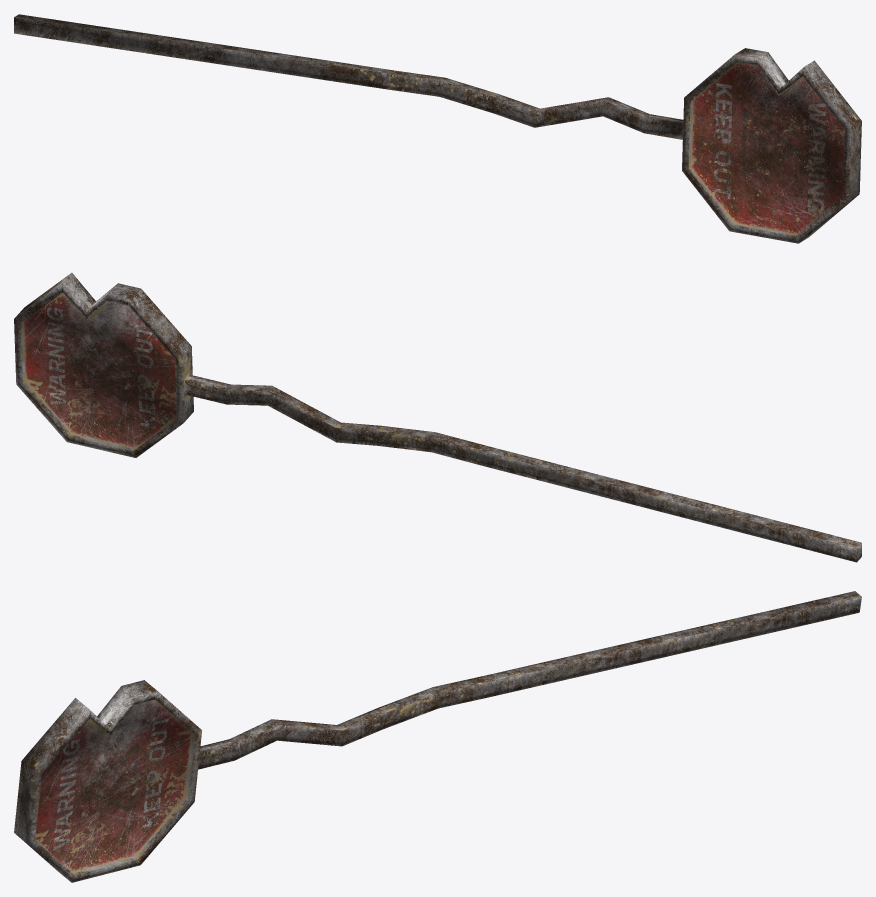
Rendered from Anim_idle_senyal_objetos.0019.obj.
3 renders of one model, top to bottom at view 1: azimuth 30°, elevation 25°; view 2: azimuth 210°, elevation 25°; view 3: azimuth 270°, elevation 25°, orthographic. The views are drawn at different scales.
Size of the model in its own units: 7.26 by 2.54 by 10.54.
